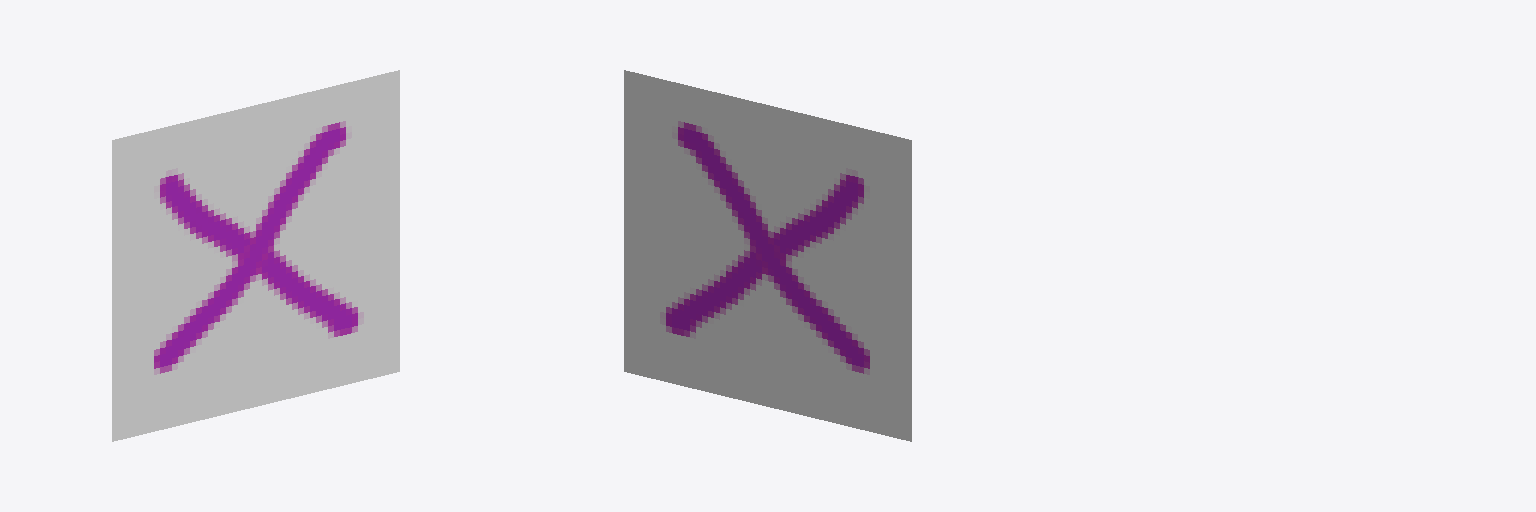
The picture shows the model from 3 angles: view 1: azimuth 30°, elevation 25°; view 2: azimuth 150°, elevation 25°; view 3: azimuth 270°, elevation 25°; orthographic projection.
Visible parts, largest first — view 1: 平面; view 2: 平面; view 3: none.
Boxes of the visible parts, x1,y1,x2,y2 form: 平面: [112, 70, 399, 441]; 平面: [624, 70, 911, 441].
Bounding box in the file's own units: 2 × 2 × 0.
1 materials, 1 textured.